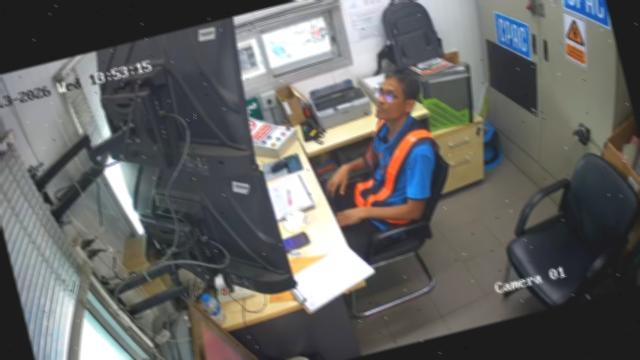Head: (374, 68, 422, 121)
People: (325, 68, 439, 254)
Phone: (280, 233, 311, 251)
